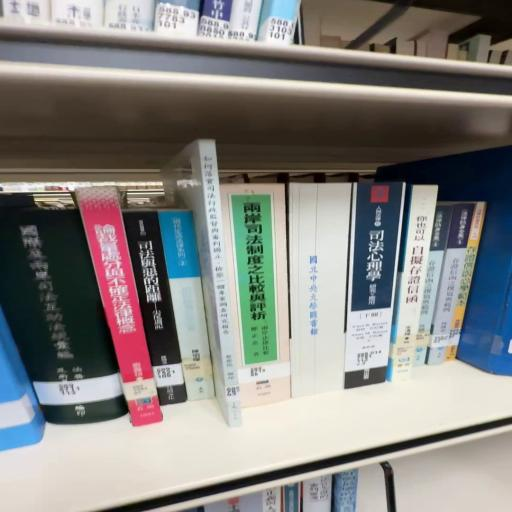backward: (288, 184, 353, 399)
book: (164, 142, 247, 428), (77, 189, 167, 433), (123, 209, 216, 414), (344, 187, 408, 395), (219, 183, 287, 365)
